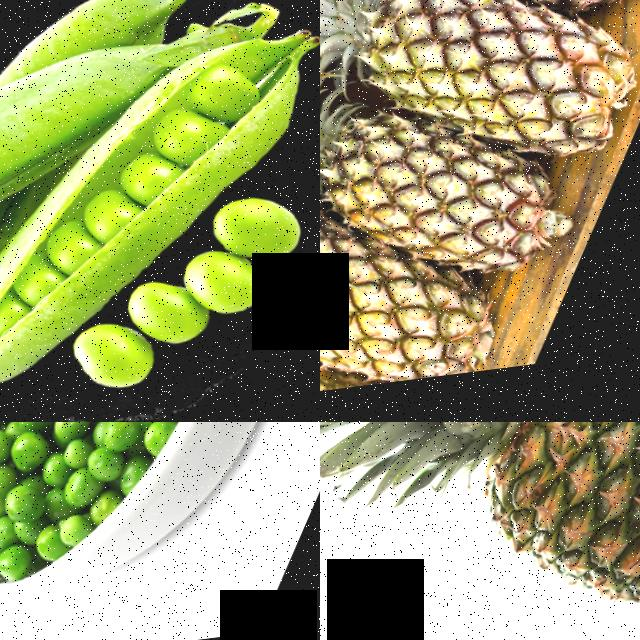peas: (41, 141, 320, 422), (22, 24, 250, 340), (0, 422, 280, 639)
pineapple: (320, 43, 587, 341), (320, 0, 640, 225), (371, 422, 640, 640), (320, 149, 517, 417), (320, 0, 640, 86), (320, 268, 446, 419)
